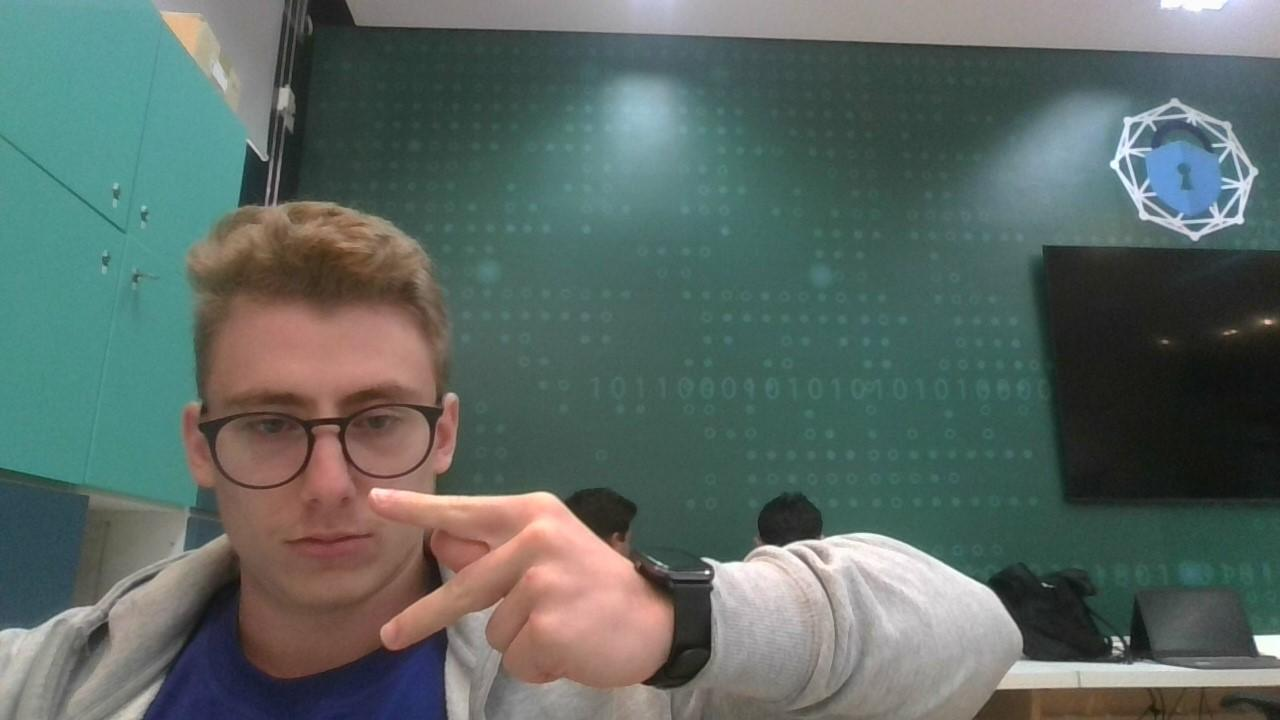P: (364, 472, 646, 692)
